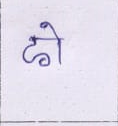e_matra: (40, 22, 65, 37)
